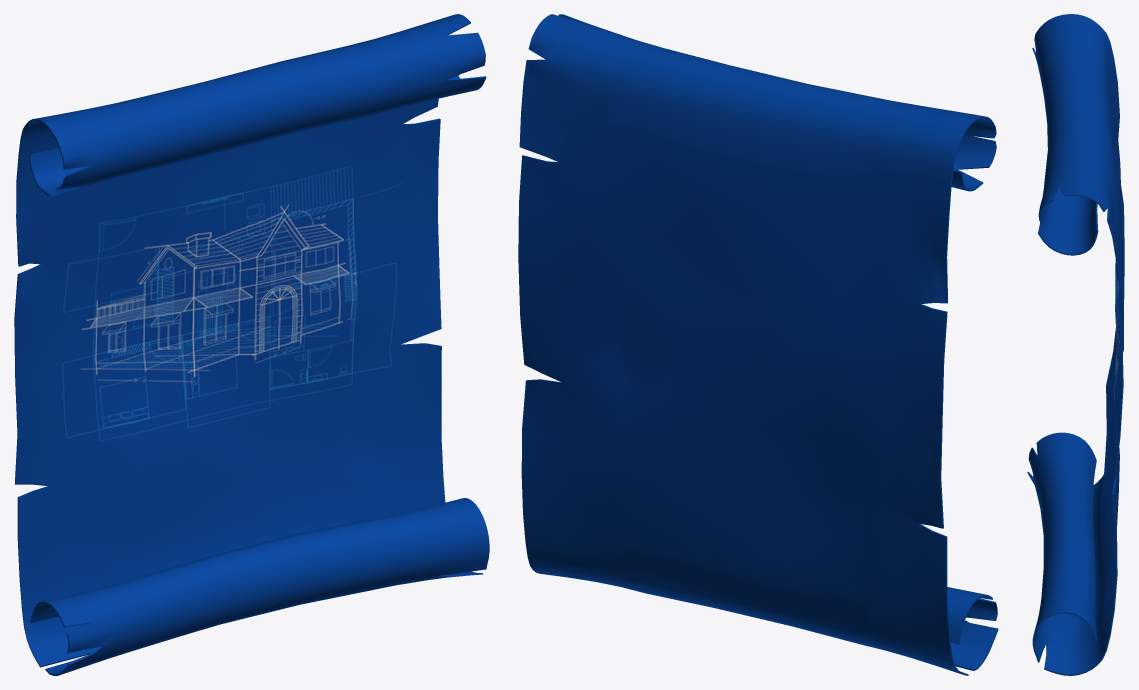
Rendered from BluePrint.fbx.
The picture shows the model from 3 angles, left to right: view 1: azimuth 30°, elevation 25°; view 2: azimuth 150°, elevation 25°; view 3: azimuth 270°, elevation 25°; orthographic projection. The views are drawn at different scales.
Visible parts, largest first — view 1: 14059_Pirate_Treasure_map_Scroll_v1_L1; view 2: 14059_Pirate_Treasure_map_Scroll_v1_L1; view 3: 14059_Pirate_Treasure_map_Scroll_v1_L1.
Boxes of the visible parts, <box> form: 14059_Pirate_Treasure_map_Scroll_v1_L1: <box>14,14,489,675</box>; 14059_Pirate_Treasure_map_Scroll_v1_L1: <box>518,14,998,675</box>; 14059_Pirate_Treasure_map_Scroll_v1_L1: <box>1027,14,1124,675</box>.
Bounding box in the file's own units: 1188 × 1475 × 271.
